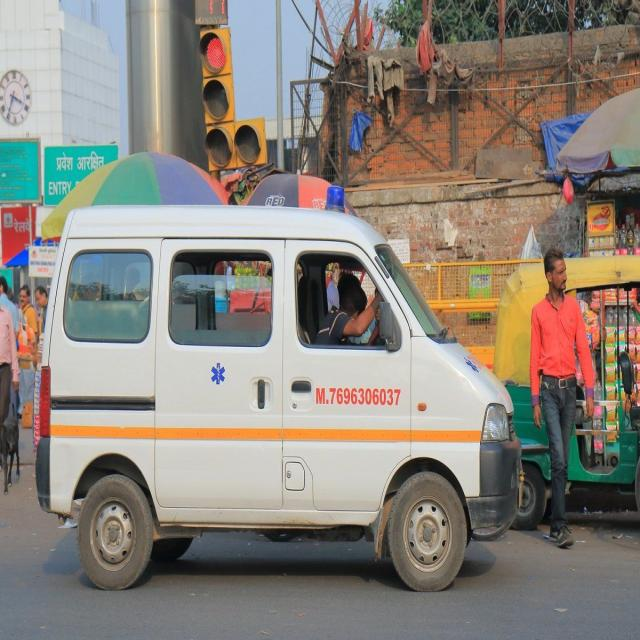emergency: (35, 207, 521, 590)
